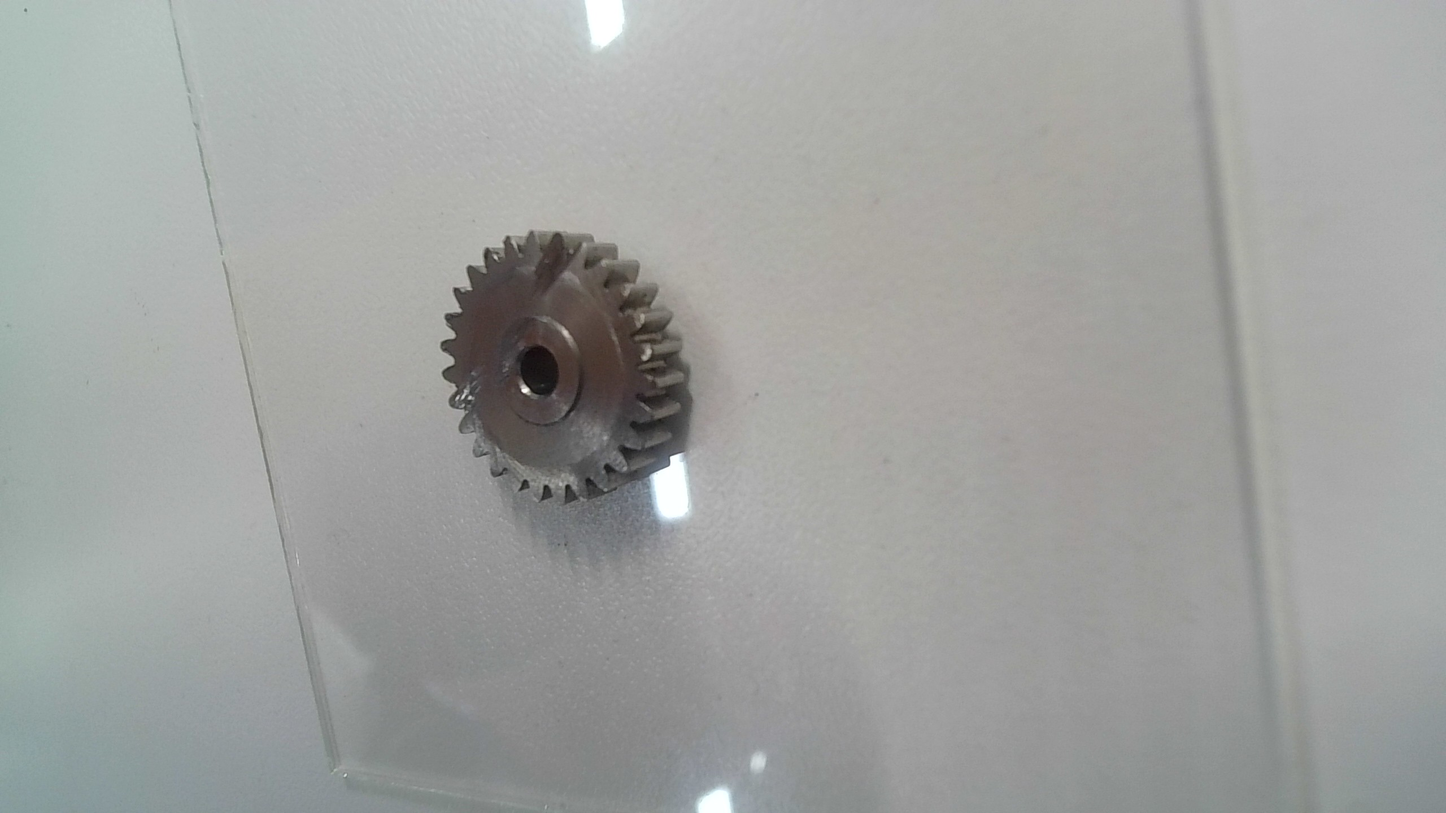gear: (436, 221, 699, 507)
